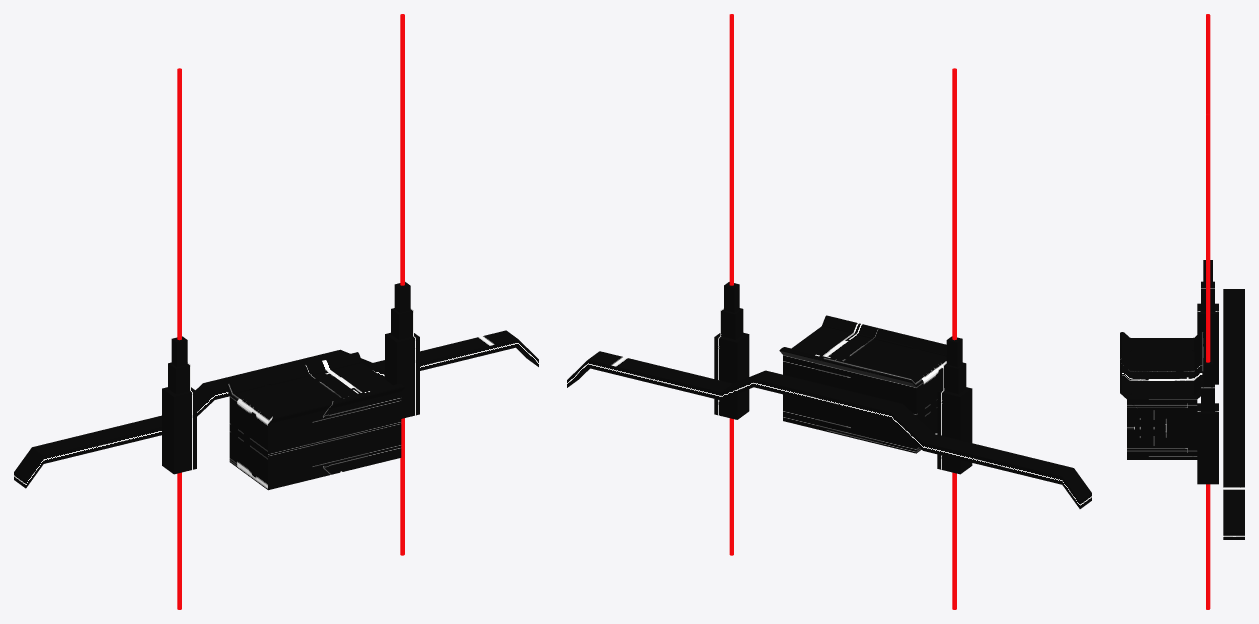
Rendered from TronscendenceLandscape.glb.
3 renders of one model, left to right at view 1: azimuth 30°, elevation 25°; view 2: azimuth 150°, elevation 25°; view 3: azimuth 270°, elevation 25°, orthographic. The views are drawn at different scales.
Parts seen in each view (by area): view 1: Cube.001, Cube; view 2: Cube.001, Cube; view 3: Cube.001, Cube.
Boxes of the visible parts, x1=… form: Cube.001: x1=14, y1=14, x2=538, y2=609; Cube: x1=226, y1=352, x2=404, y2=490; Cube.001: x1=567, y1=14, x2=1091, y2=609; Cube: x1=779, y1=315, x2=946, y2=453; Cube.001: x1=1197, y1=14, x2=1244, y2=609; Cube: x1=1120, y1=332, x2=1204, y2=459.
Size of what is drawn, in the model's own units: 15.39 by 15.47 by 3.54.
3 materials, 2 textured.
